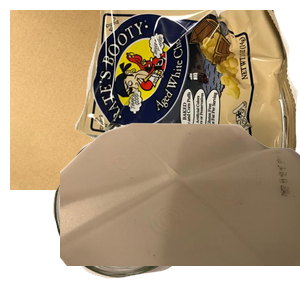cardboard: (10, 10, 250, 190)
glass: (50, 131, 252, 300)
plastic: (60, 120, 300, 300)
trash: (75, 10, 300, 190)
